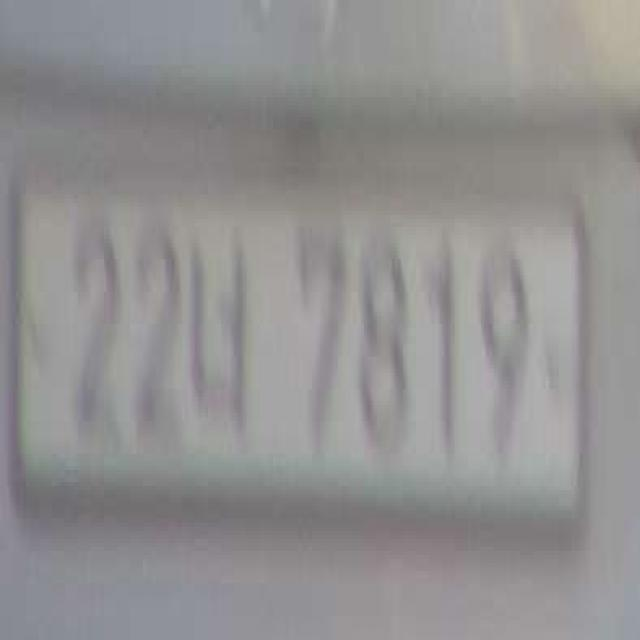1: (419, 216, 462, 468)
2: (132, 218, 183, 449), (72, 218, 122, 446)
7: (294, 222, 349, 452)
8: (356, 222, 410, 460)
9: (469, 218, 536, 464)
license_plate: (17, 188, 582, 490)
neo: (187, 223, 256, 454)
